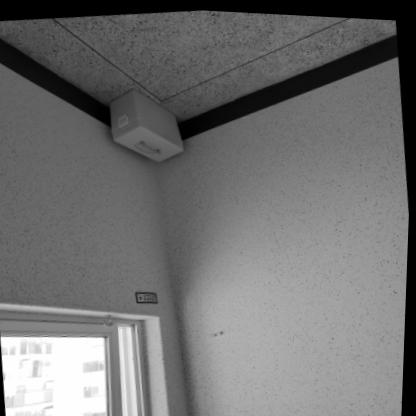DDL: (108, 81, 188, 165)
